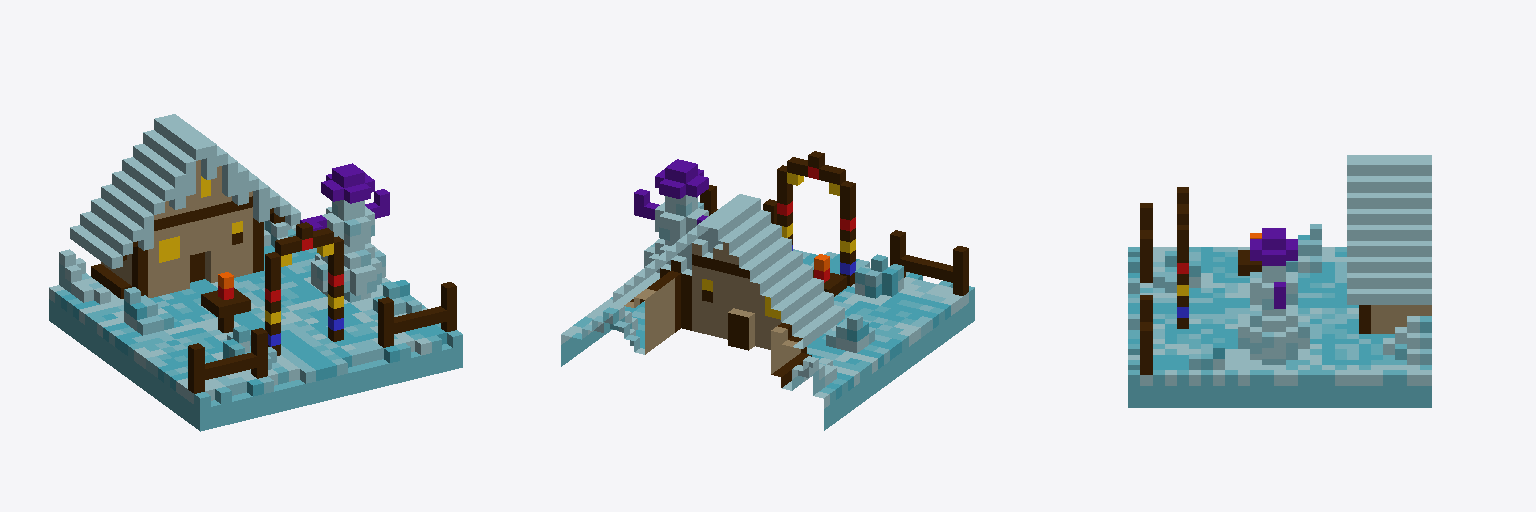
The picture shows the model from 3 angles: view 1: azimuth 30°, elevation 25°; view 2: azimuth 150°, elevation 25°; view 3: azimuth 270°, elevation 25°; orthographic projection.
Visible parts, largest first — view 1: Sklon2_03:Mesh; view 2: Sklon2_03:Mesh; view 3: Sklon2_03:Mesh.
Boxes of the visible parts, <box> form: Sklon2_03:Mesh: <box>49,114,462,431</box>; Sklon2_03:Mesh: <box>561,151,974,430</box>; Sklon2_03:Mesh: <box>1128,155,1431,407</box>.
Size of the model in its own units: 4 by 2.56 by 4.
Materials: 1 (1 with a texture image).